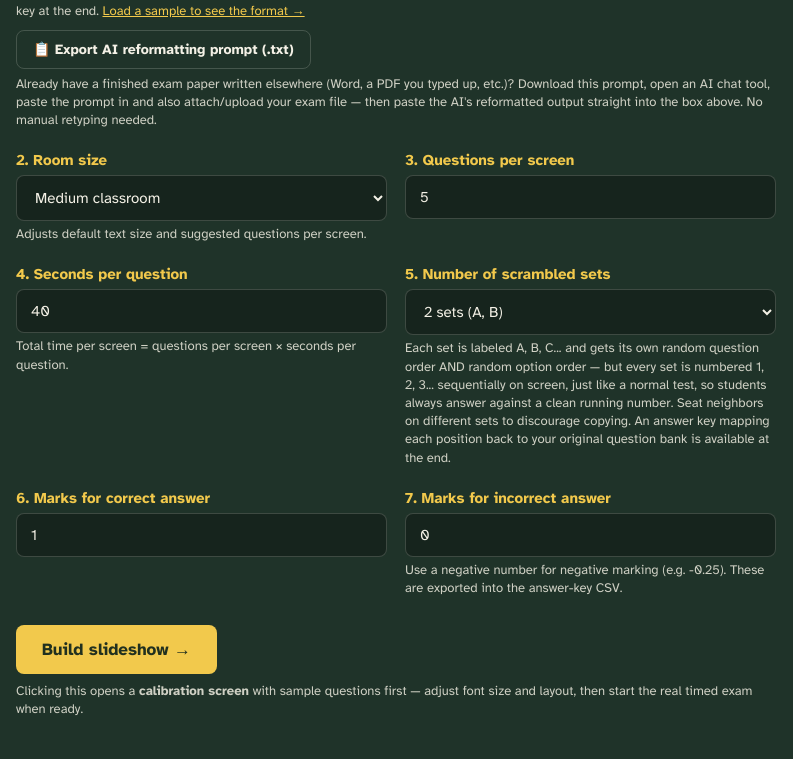
Test: SetupScreen › shows an error and does not advance when Build is clicked with empty input
(page scrolled)
Click the button "Build slideshow →" at (116, 650), box [16, 625, 217, 674]
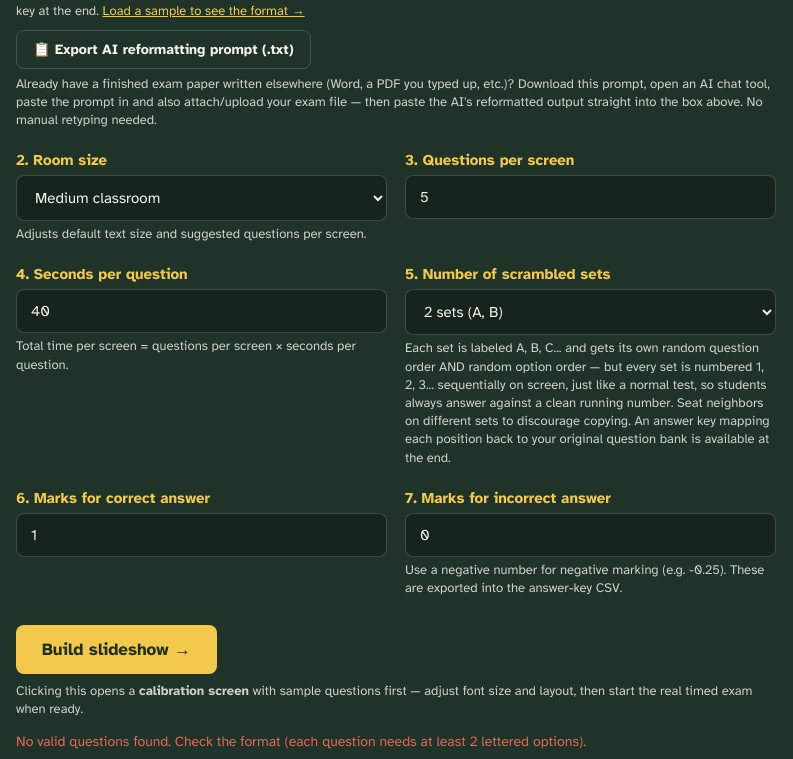
expect the text "No valid questions found" is shown: met, box [16, 732, 586, 750]
